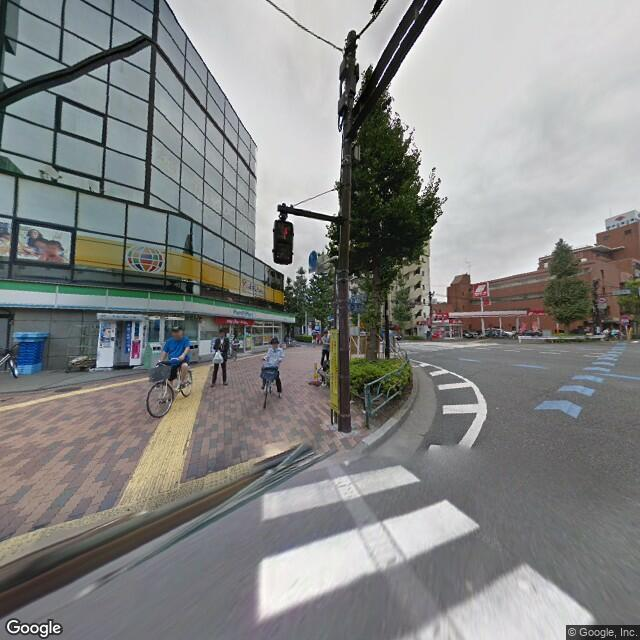family_mart: (3, 277, 297, 328)
